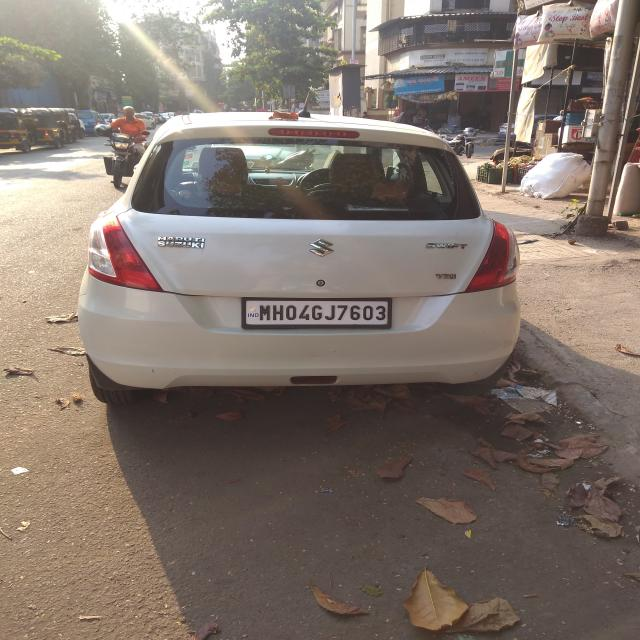Number-Plate: (246, 299, 390, 326)
